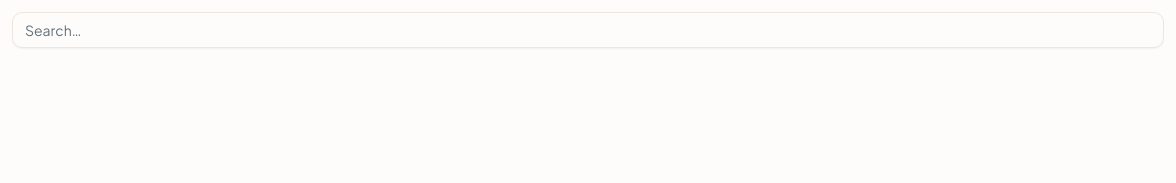
Scenario: SearchPicker › selects an option and shows its label in the input afterwards
The image size is (1176, 183).
Step 1. Focus the field with placeholder "Search…" → (588, 30), box [12,12,1164,48]
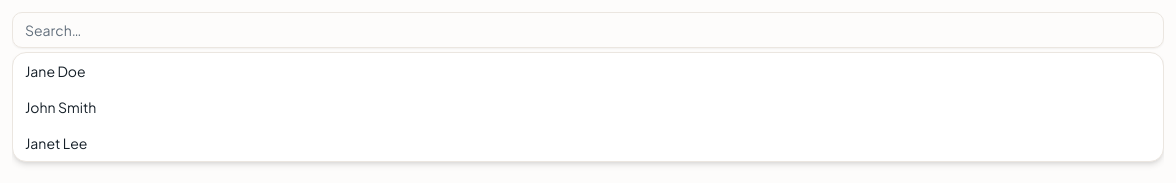
Step 2. Press the mouse on the option "John Smith" → (61, 107), box [13,89,1163,125]
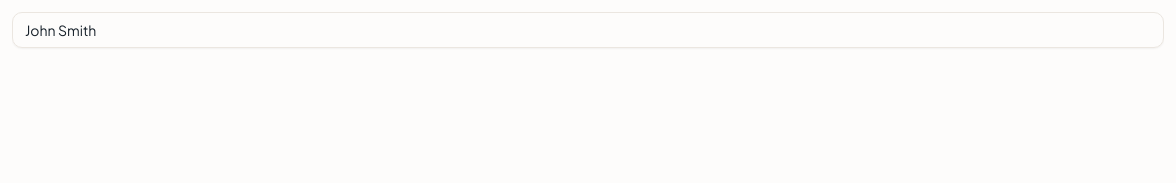
Check: the field with placeholder "Search…" holds "John Smith", box [12,12,1164,48]
Check: the list is gone
